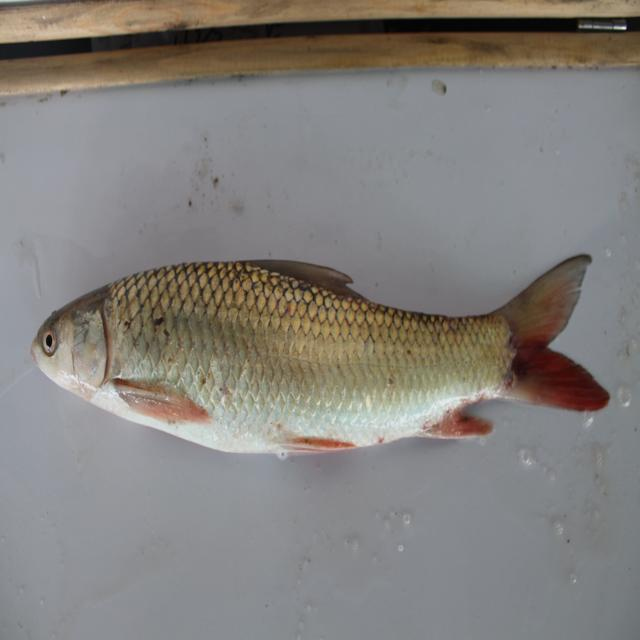Mori: (25, 238, 625, 478)
